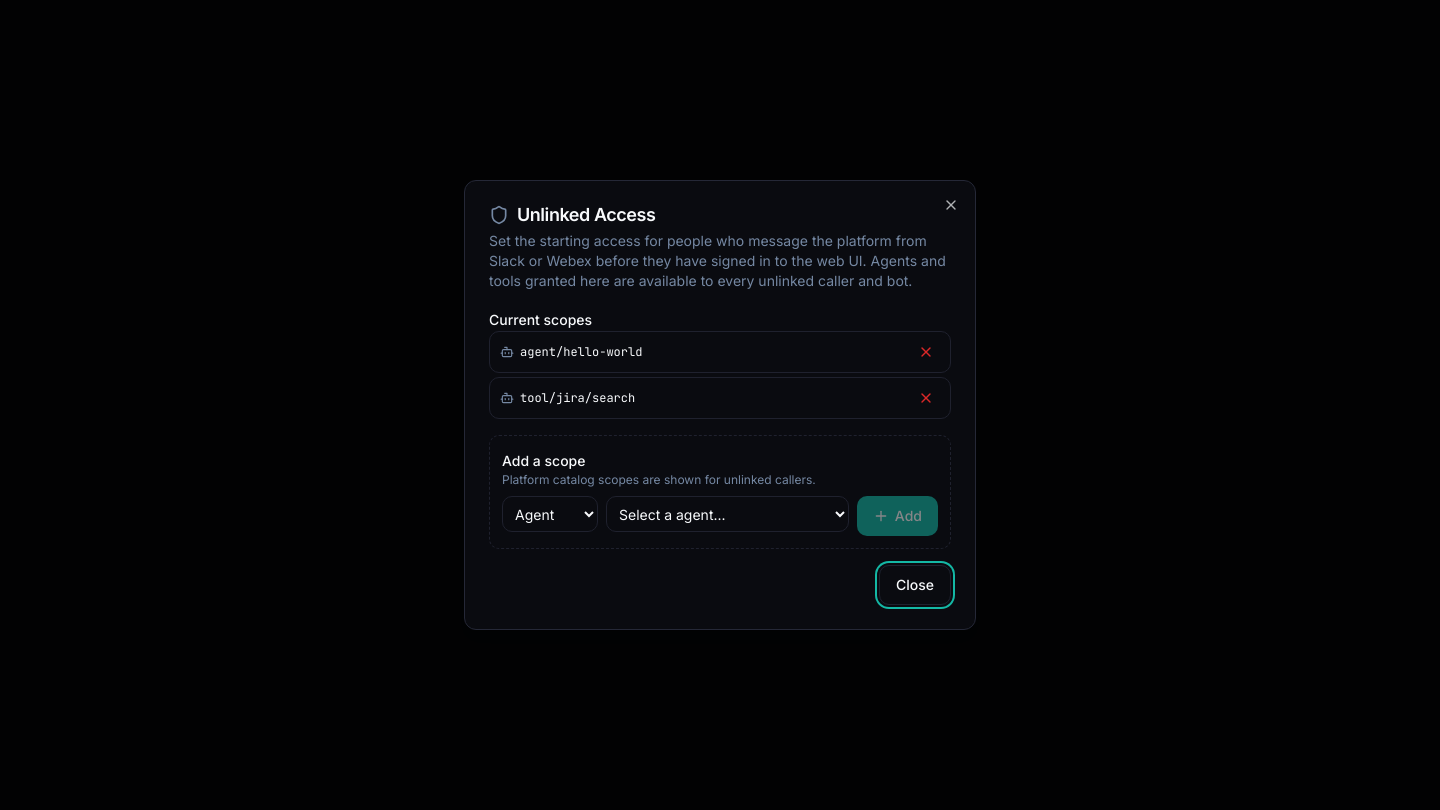
it: UnlinkedServiceAccountModal › shows a single error banner when the POST fails
The width and height of the screenshot is (1440, 810).
Expected: the text "Add a scope" is shown, x1=502 y1=452 x2=586 y2=469
Select "SRE Agent" in the dropdown named "scope ref" at [727, 514], box x1=606 y1=496 x2=849 y2=532
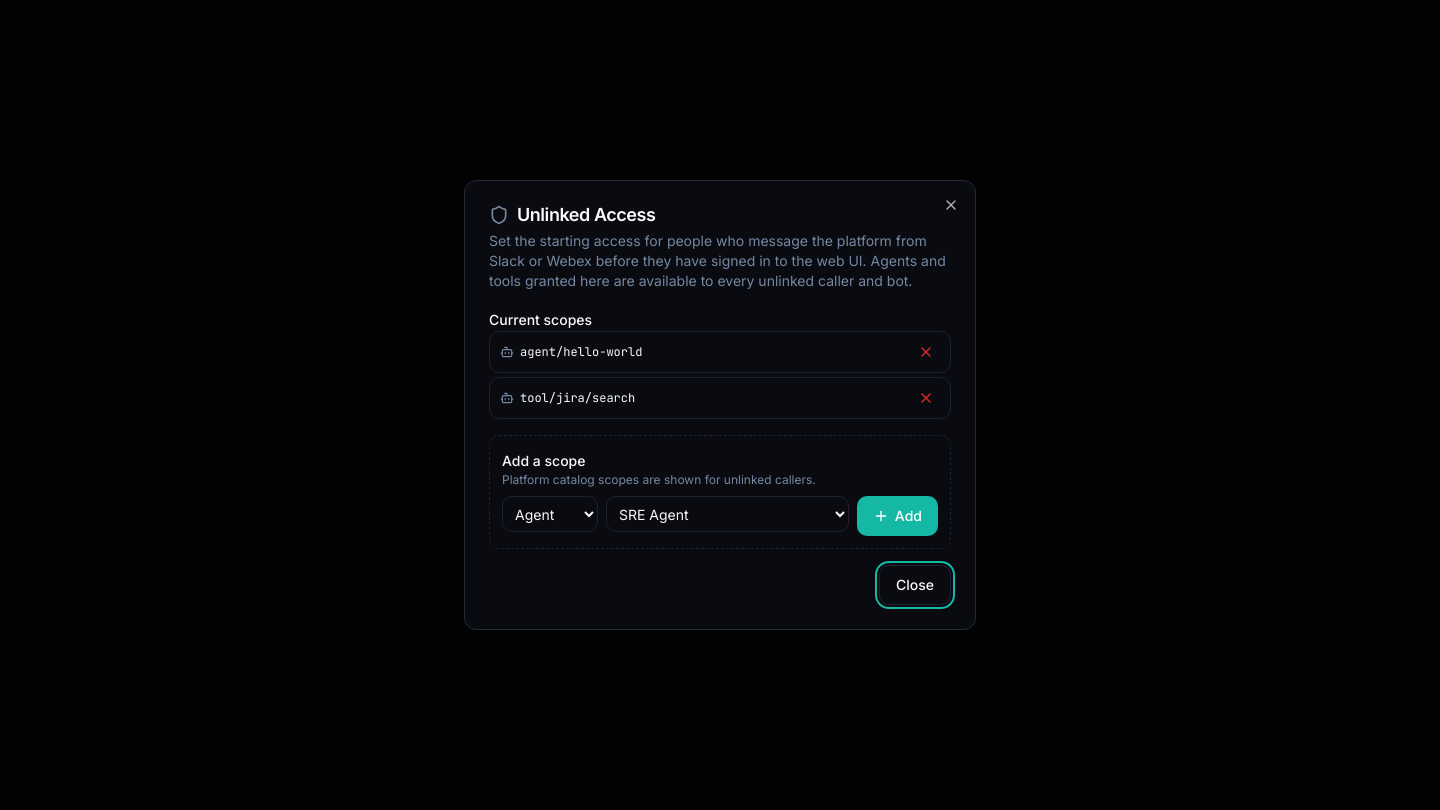
Click the button "Add".
click(897, 516)  # box x1=857 y1=496 x2=938 y2=536
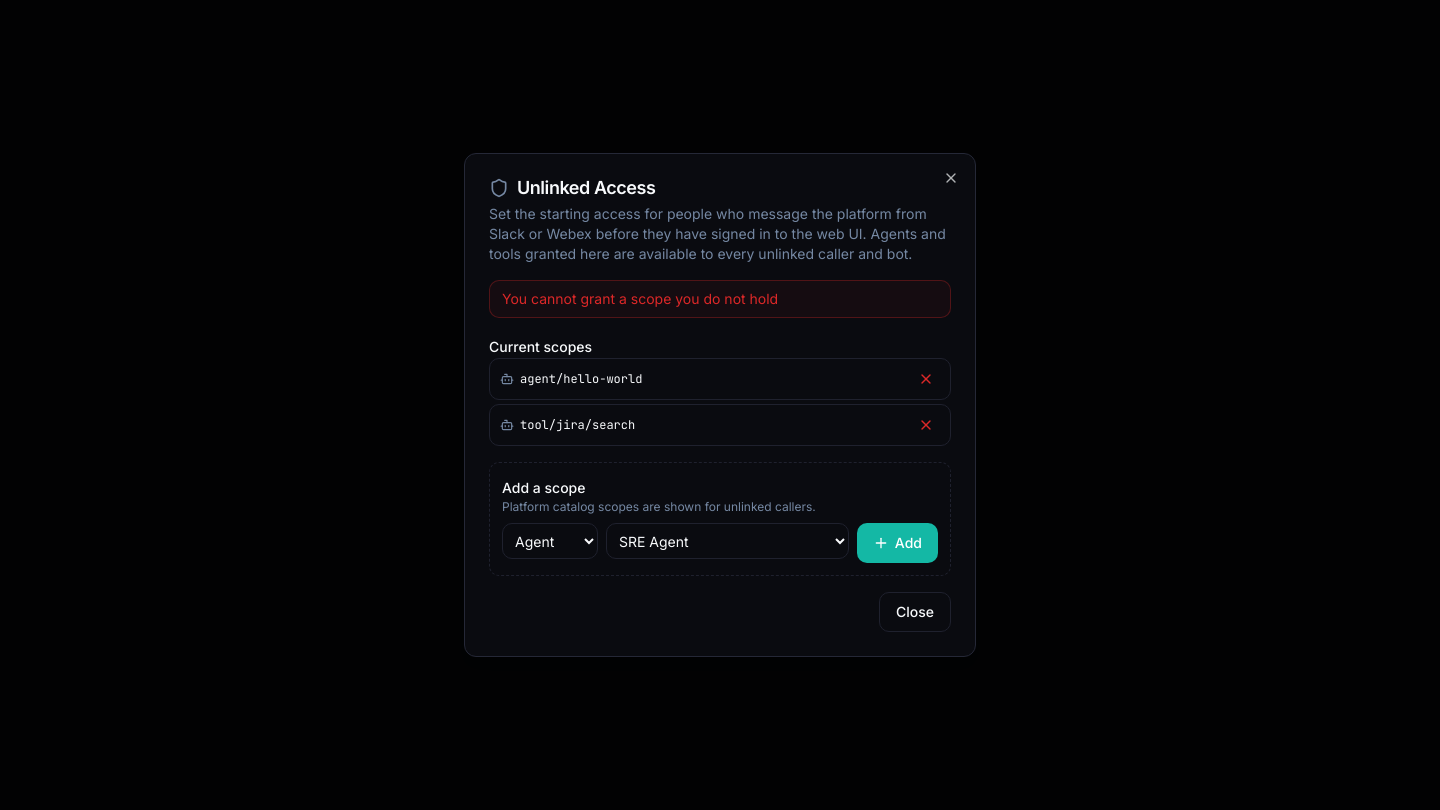
Now the number of elements with test id "unlinked-modal-error" is 1, box x1=489 y1=280 x2=951 y2=318
Now the text with test id "unlinked-modal-error" shows "cannot grant a scope you do not hold", box x1=502 y1=290 x2=778 y2=307
